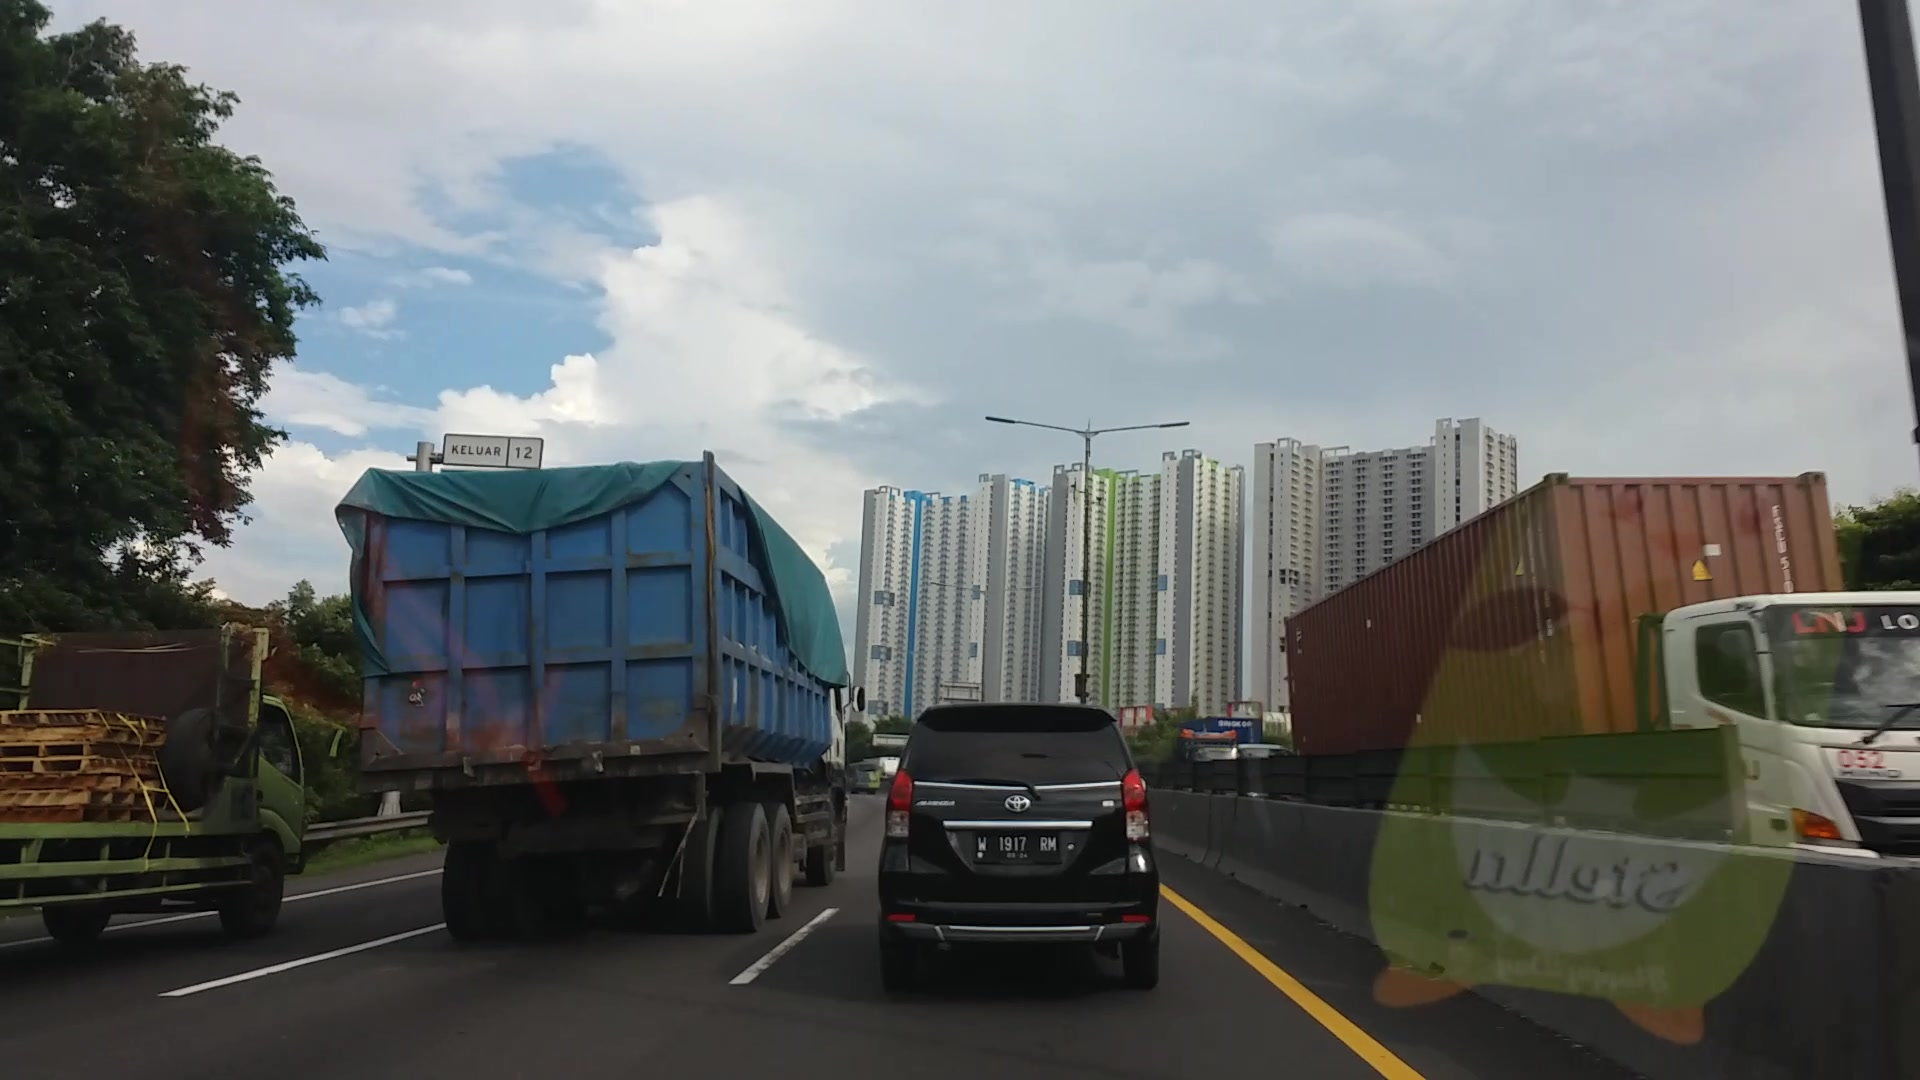plate_positive: (975, 831, 1059, 862)
